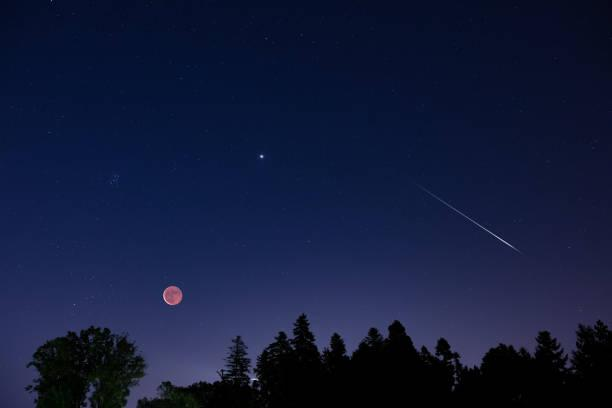meteor: (507, 241, 532, 260)
